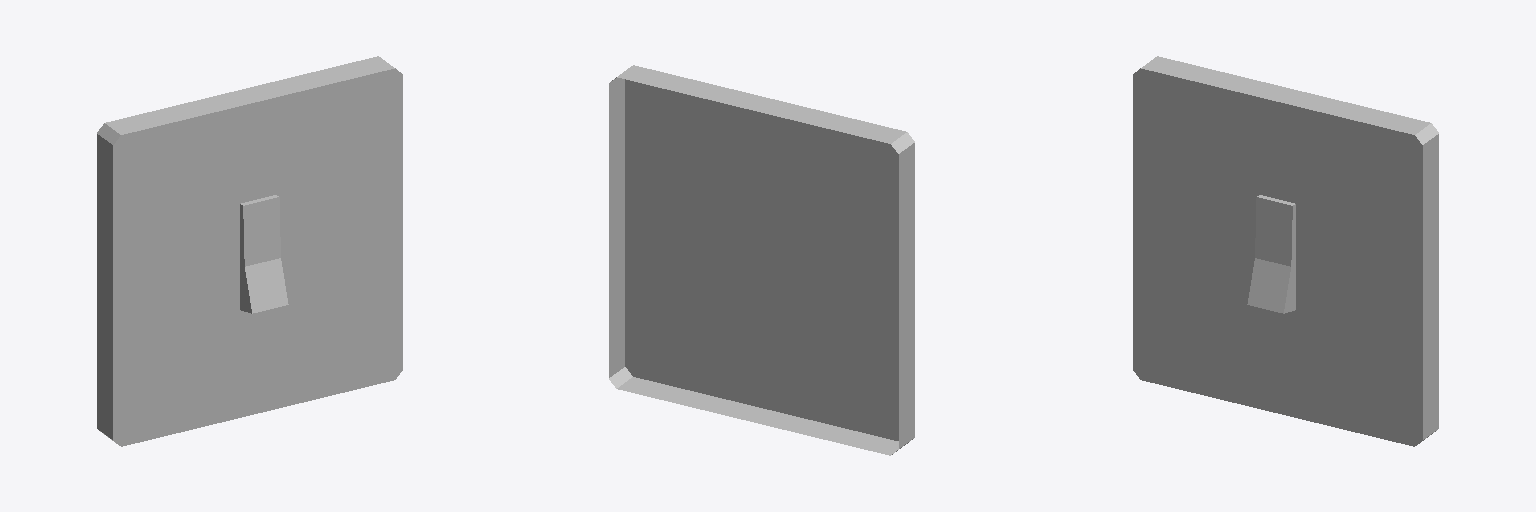
File: light_switch_1.obj
3 renders of one model, left to right at view 1: azimuth 30°, elevation 25°; view 2: azimuth 150°, elevation 25°; view 3: azimuth 330°, elevation 25°, orthographic.
Parts seen in each view (by area): view 1: light_switch_1; view 2: light_switch_1; view 3: light_switch_1.
Boxes of the visible parts, x1,y1,x2,y2 form: light_switch_1: [97, 56, 402, 446]; light_switch_1: [609, 65, 914, 455]; light_switch_1: [1133, 56, 1438, 446].
Bounding box in the file's own units: 0.11 × 0.113 × 0.019.